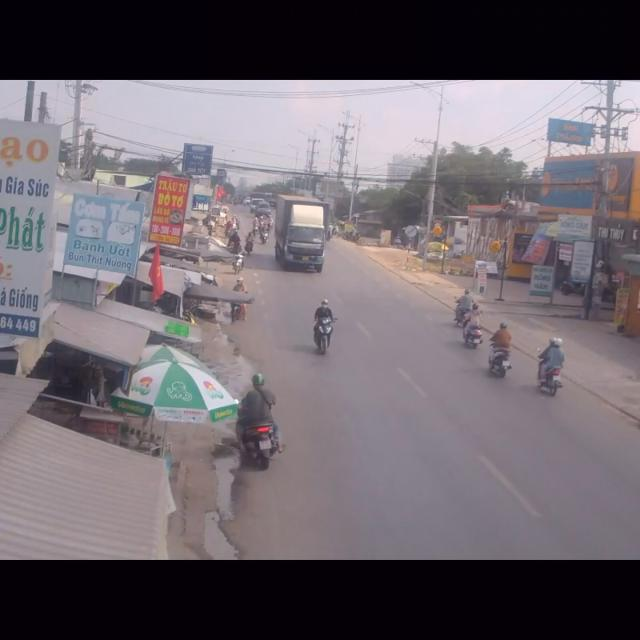motorbike: (234, 374, 282, 479), (537, 332, 565, 403), (488, 319, 512, 382), (312, 296, 335, 357), (462, 306, 484, 352), (455, 287, 471, 327)
truck: (274, 197, 326, 274)
